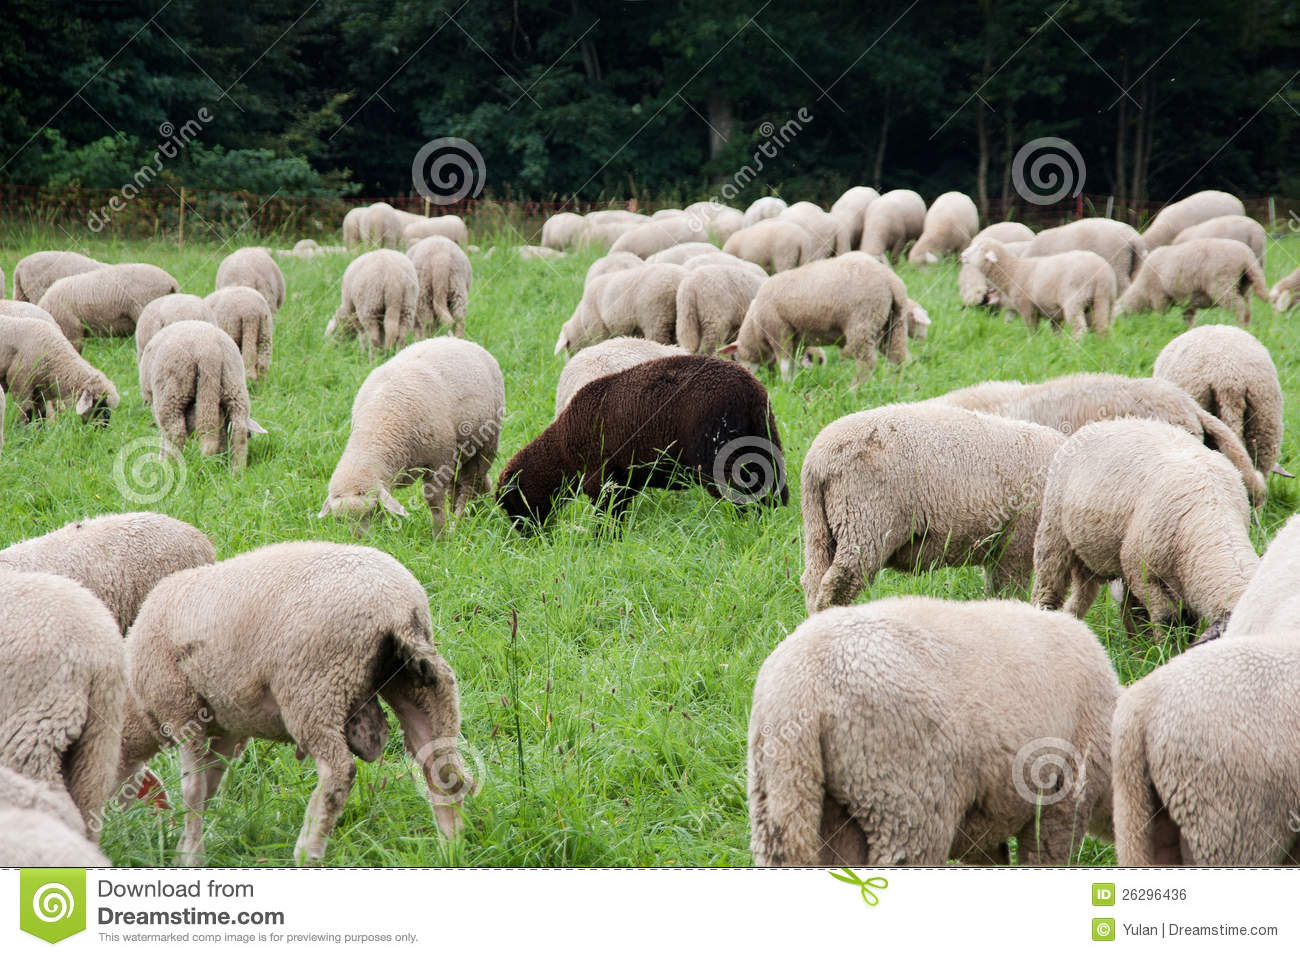sheep: (118, 537, 455, 877), (742, 608, 1120, 873), (806, 399, 1080, 624), (475, 366, 784, 533), (1042, 402, 1266, 631), (338, 333, 538, 548), (1129, 626, 1284, 866), (22, 450, 180, 617), (1166, 320, 1298, 508), (762, 265, 933, 382), (156, 331, 278, 491), (1109, 217, 1264, 335), (964, 248, 1116, 342), (1, 302, 113, 427), (527, 246, 656, 353), (22, 260, 182, 335), (713, 191, 827, 293), (398, 235, 480, 370), (666, 244, 753, 360), (916, 190, 1002, 304), (346, 246, 435, 351), (829, 184, 924, 257), (186, 275, 251, 368), (1142, 193, 1236, 253), (607, 220, 702, 271), (220, 233, 280, 308), (355, 200, 440, 251), (549, 217, 618, 275), (818, 175, 869, 248)
